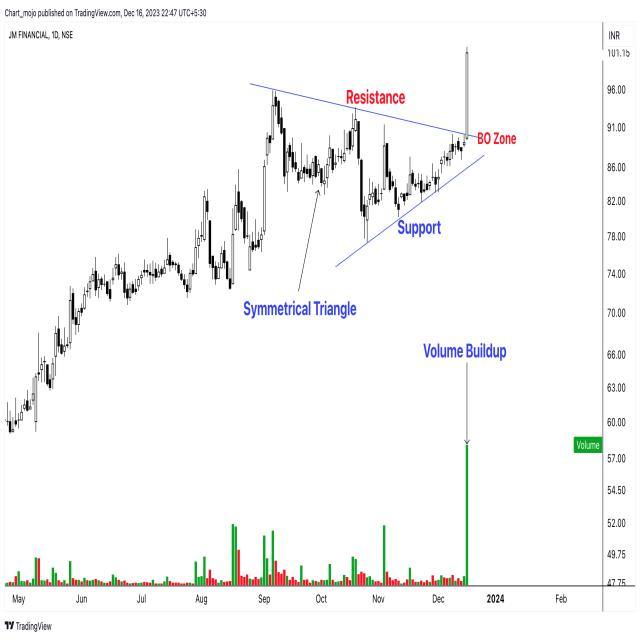Triangle: (248, 90, 496, 298)
